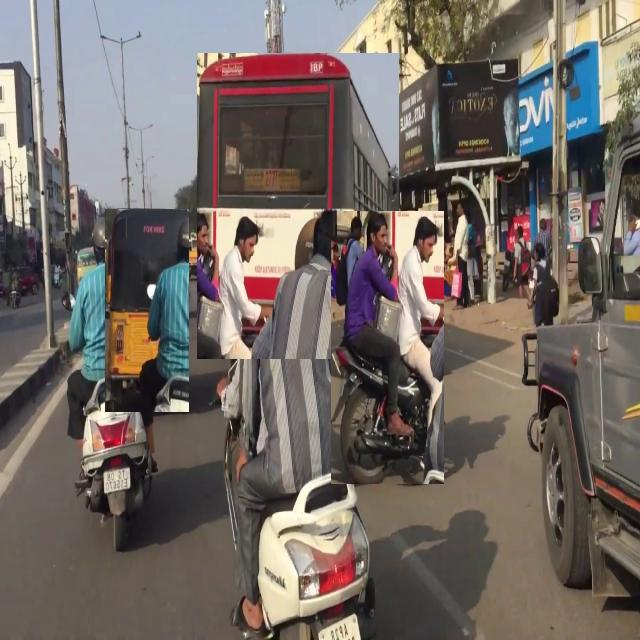autorickshaw: (105, 209, 189, 412)
bus: (197, 53, 399, 359)
motorcycle: (210, 209, 375, 640), (62, 218, 158, 551), (331, 211, 444, 484)
